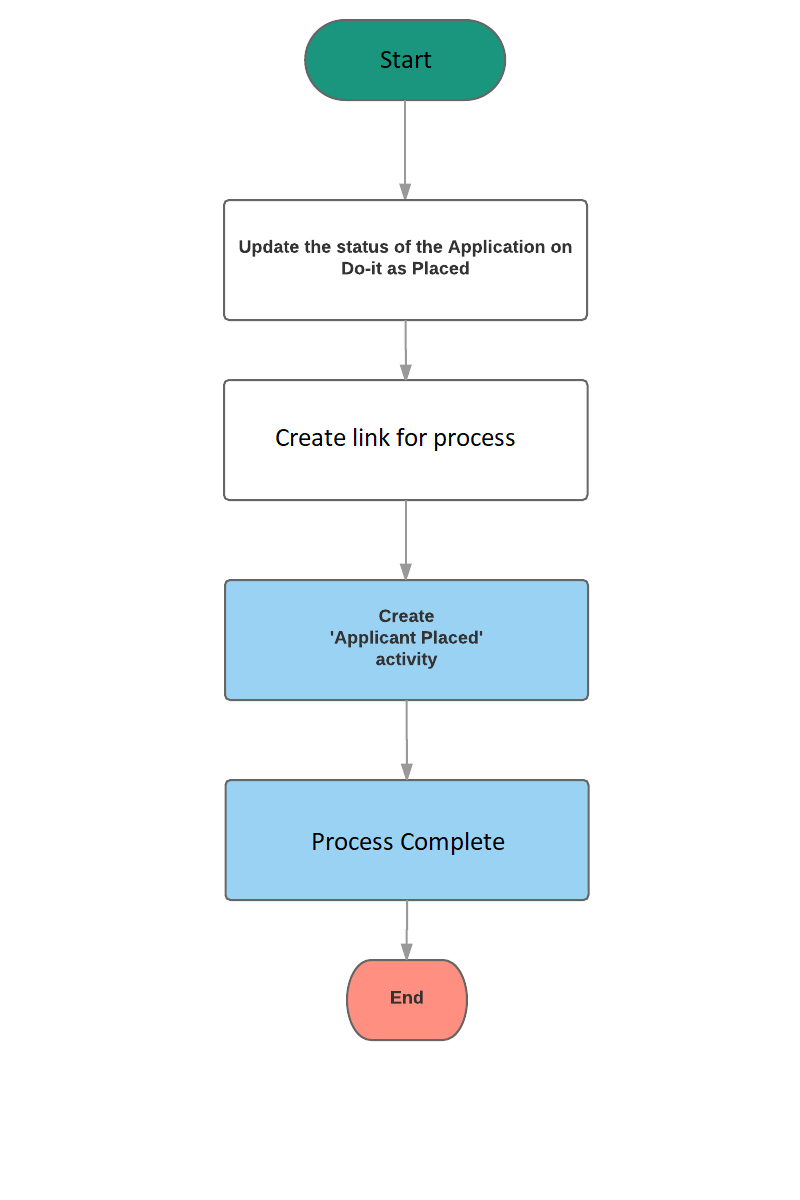arrow: (393, 104, 419, 197), (395, 895, 418, 960), (395, 504, 413, 581), (399, 704, 415, 784), (397, 324, 413, 379)
process: (219, 575, 597, 708), (217, 775, 595, 906), (220, 373, 595, 504), (219, 195, 591, 324)
terminator: (304, 15, 509, 108), (346, 955, 471, 1046)
text: (237, 233, 577, 282), (326, 604, 488, 677), (273, 424, 520, 455), (306, 824, 506, 862), (377, 44, 435, 75), (386, 984, 426, 1012)
